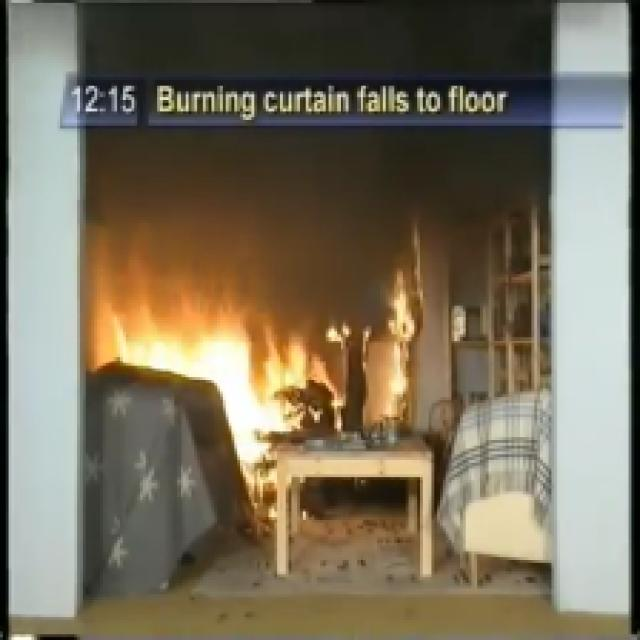fire: (124, 312, 274, 510)
